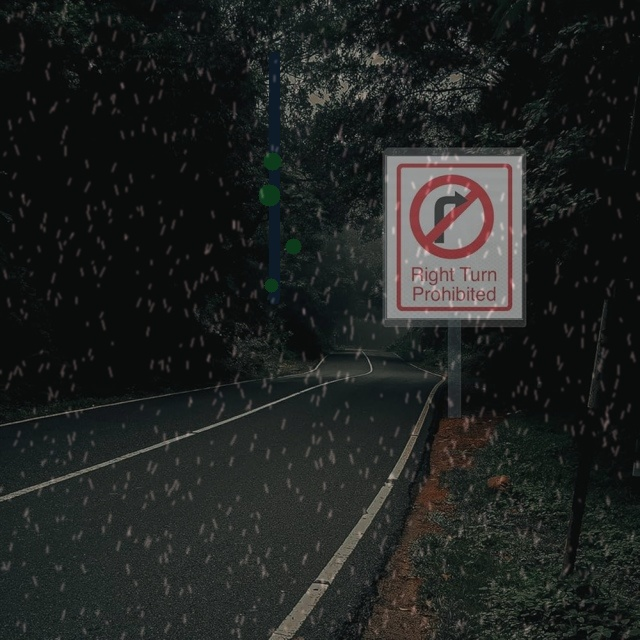Right_Turn_Prohibited: (401, 168, 507, 265)
